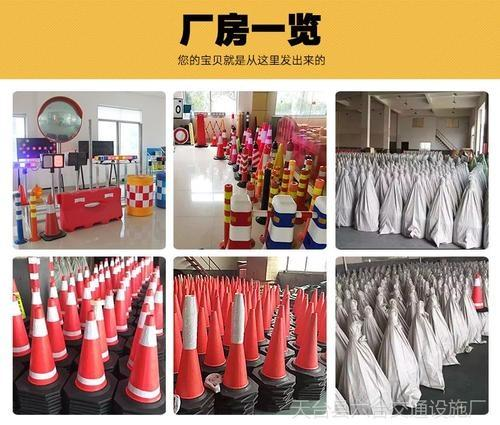cone_barrel: (24, 285, 62, 389), (66, 310, 112, 395), (121, 312, 161, 402), (255, 314, 292, 380), (291, 313, 322, 373), (44, 296, 67, 363), (11, 291, 29, 364), (61, 281, 80, 347), (41, 193, 61, 239), (102, 290, 119, 344), (468, 269, 486, 311), (215, 132, 225, 157)
